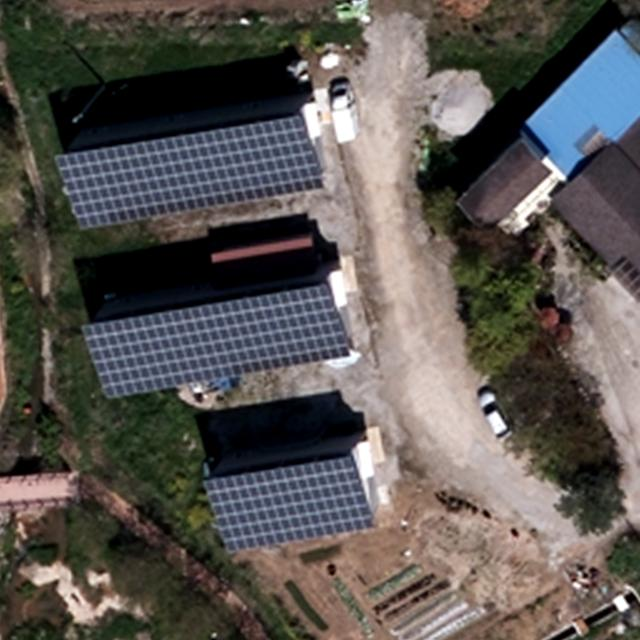panel: (77, 281, 356, 406), (51, 112, 327, 231), (200, 452, 381, 554)
